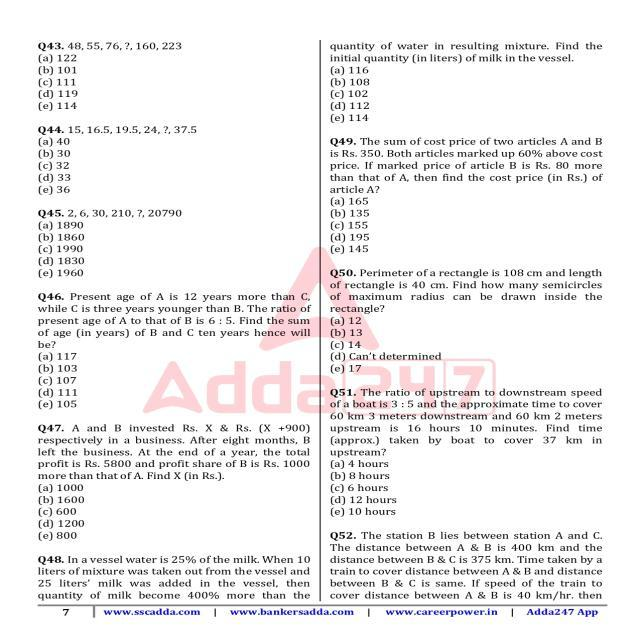Answer_Block: (19, 350, 316, 414), (22, 52, 316, 114), (19, 220, 318, 279), (18, 139, 314, 198), (318, 460, 607, 520), (27, 481, 311, 542), (325, 196, 609, 256), (327, 64, 610, 124), (320, 316, 611, 374)
Question_Answer_Block: (326, 382, 610, 519), (22, 290, 317, 416), (328, 132, 611, 256), (28, 422, 314, 542), (328, 266, 609, 378), (19, 203, 323, 280), (326, 41, 614, 122), (21, 37, 316, 114), (323, 528, 618, 604), (21, 122, 316, 197), (32, 548, 316, 600), (24, 121, 320, 135)
Question_Block: (320, 531, 618, 604), (333, 384, 610, 459), (26, 289, 311, 348), (26, 422, 311, 480), (328, 138, 609, 194), (28, 550, 314, 600), (323, 268, 608, 315), (323, 41, 603, 64), (20, 34, 312, 54), (22, 207, 318, 218)
Question_Paper_Area: (19, 33, 325, 608), (321, 34, 617, 606)
